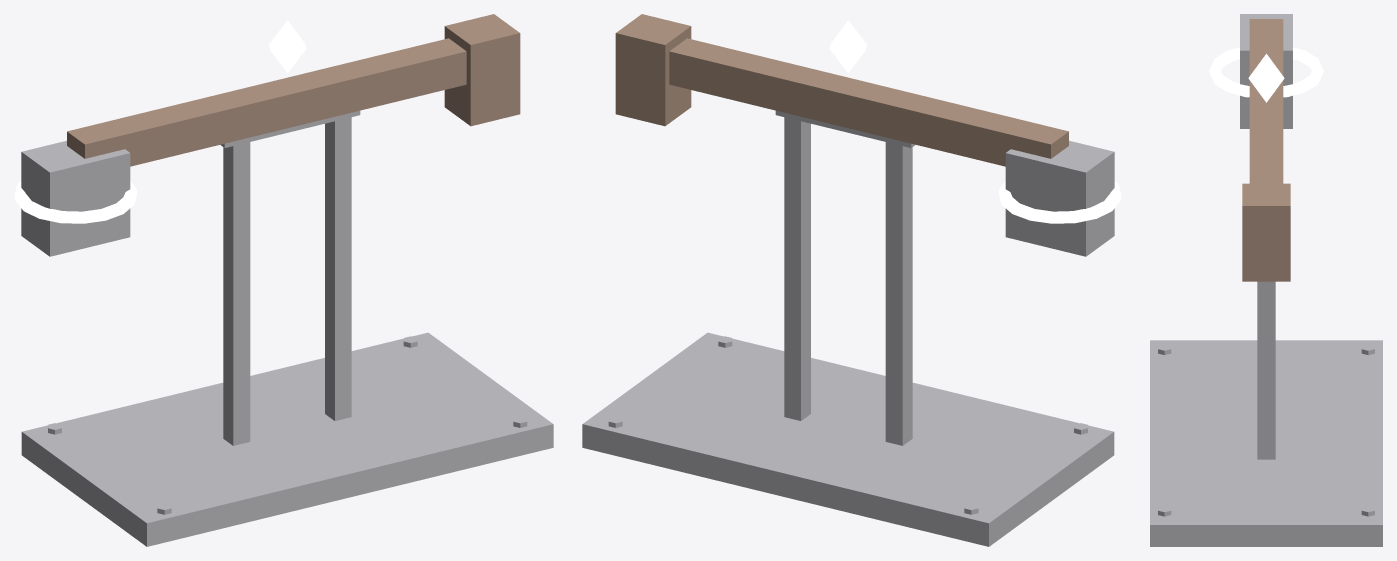
File: pump_jack_epic.glb
The picture shows the model from 3 angles, left to right: view 1: azimuth 30°, elevation 25°; view 2: azimuth 150°, elevation 25°; view 3: azimuth 270°, elevation 25°; orthographic projection. The views are drawn at different scales.
Parts seen in each view (by area): view 1: pump_jack, beam; view 2: pump_jack, beam; view 3: pump_jack, beam.
Boxes of the visible parts, left/top/right/bottom form: pump_jack: left=14, top=14, right=553, bottom=546; beam: left=67, top=38, right=466, bottom=166; pump_jack: left=582, top=14, right=1121, bottom=546; beam: left=669, top=38, right=1068, bottom=166; pump_jack: left=1150, top=14, right=1382, bottom=546; beam: left=1249, top=19, right=1283, bottom=183.
Bounding box in the file's own units: 3.43 × 2.92 × 1.54.
